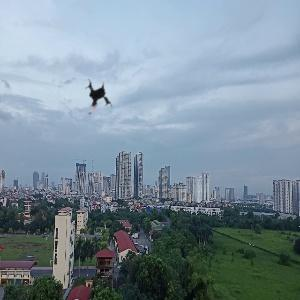drone: (73, 77, 117, 121)
